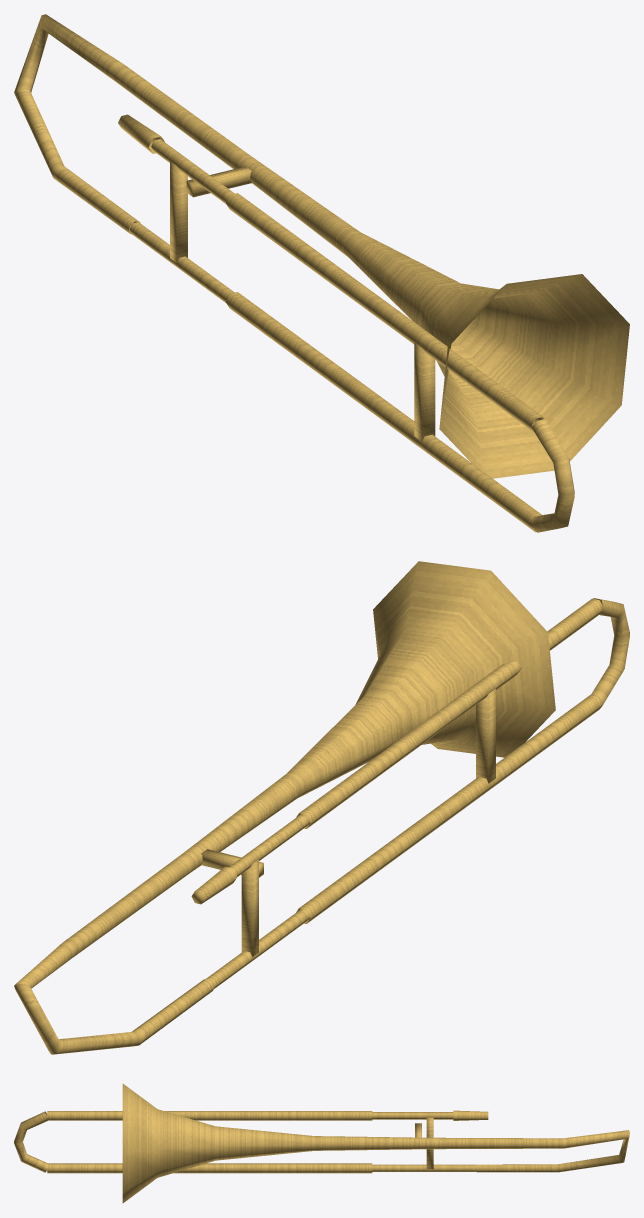
Rendered from trombone_2.glb.
3 views of the same model, one above another, from view 1: azimuth 30°, elevation 25°; view 2: azimuth 150°, elevation 25°; view 3: azimuth 270°, elevation 25° (orthographic). The views are drawn at different scales.
Parts seen in each view (by area): view 1: trombone_2, trombone_2_slide; view 2: trombone_2, trombone_2_slide; view 3: trombone_2, trombone_2_slide.
Part boxes in pixels (box(x1,y1,x2,y2)): trombone_2: box(14, 14, 629, 478); trombone_2_slide: box(226, 193, 574, 532); trombone_2: box(14, 561, 555, 1054); trombone_2_slide: box(296, 598, 629, 923); trombone_2: box(122, 1083, 629, 1203); trombone_2_slide: box(14, 1111, 372, 1173).
Bounding box in the file's own units: 0.2015 × 0.2015 × 1.06.
1 material, 1 textured.
